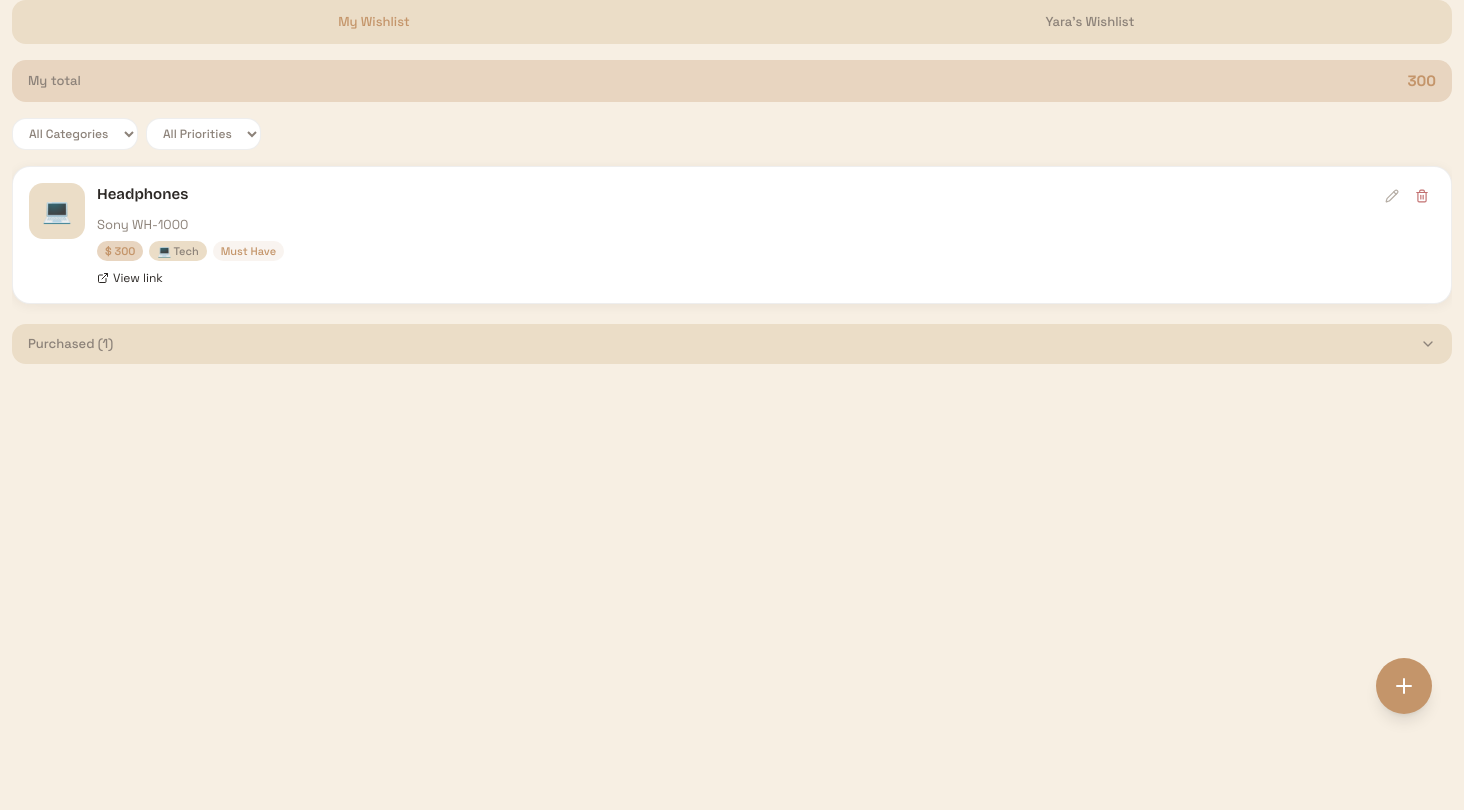
Test: WishlistPage › interaction: tab switching › switches to partner tab on click
The width and height of the screenshot is (1464, 810).
Click the button with test id "tab-partner": coordinates (1090, 22) [732, 4, 1448, 40]
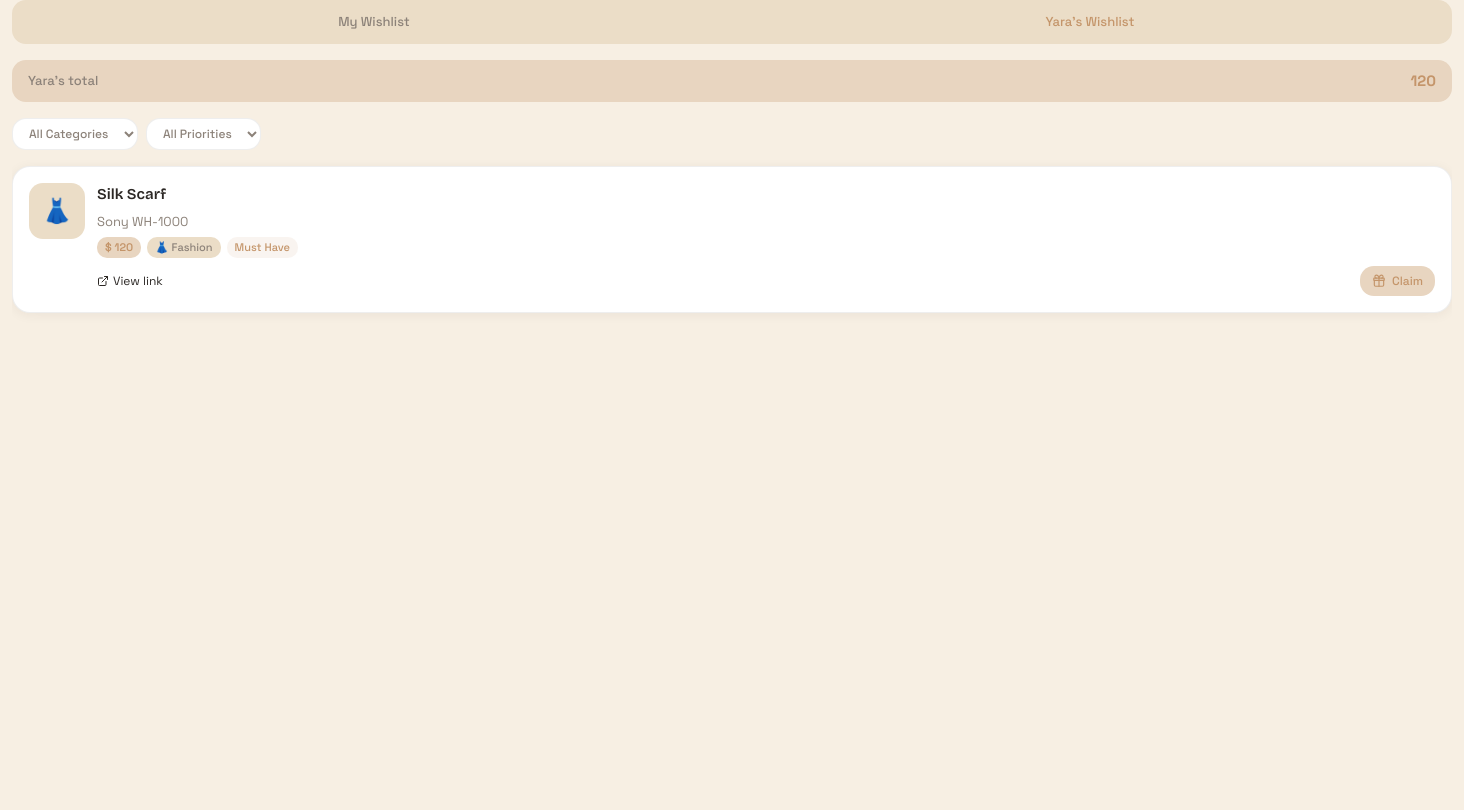
Expected: the heading "Silk Scarf" is shown, [97, 183, 166, 206]
